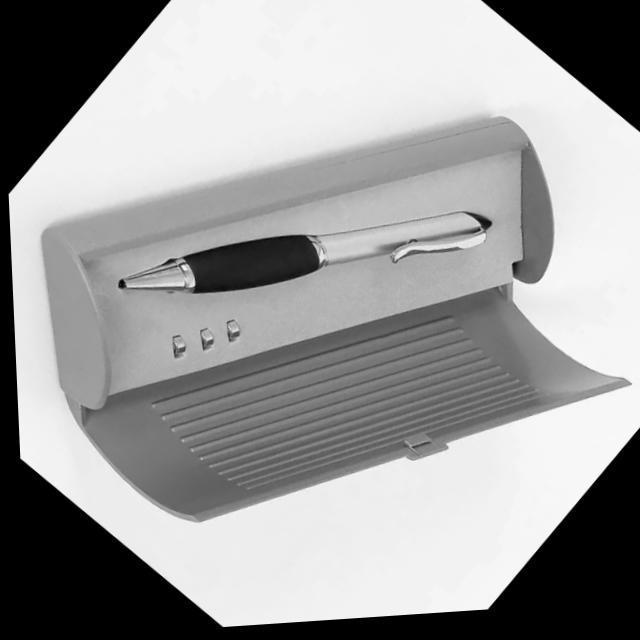pencil: (94, 202, 511, 314)
